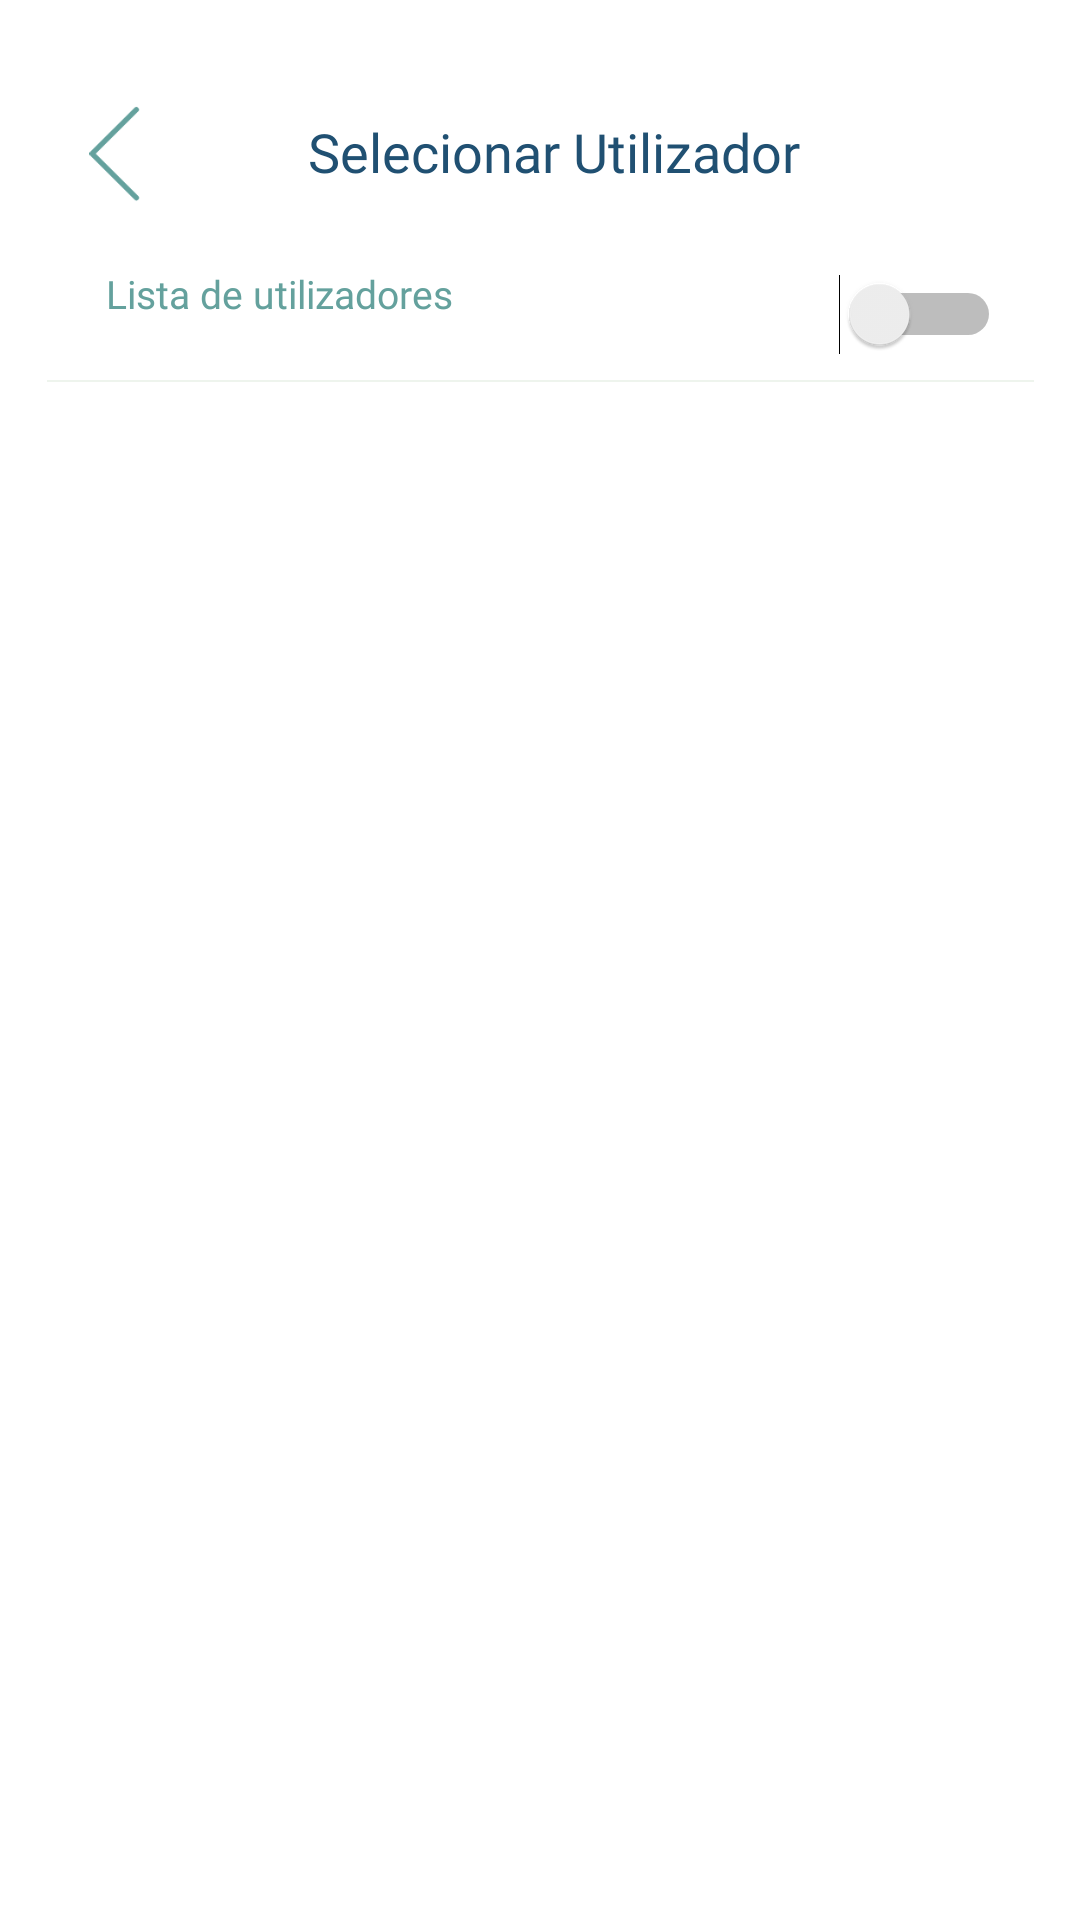

Screen size 1080w x 1920h. Icon name, then its box in pixels as (x1, y1, x2, y2):
voltar: (89, 107, 140, 201)
